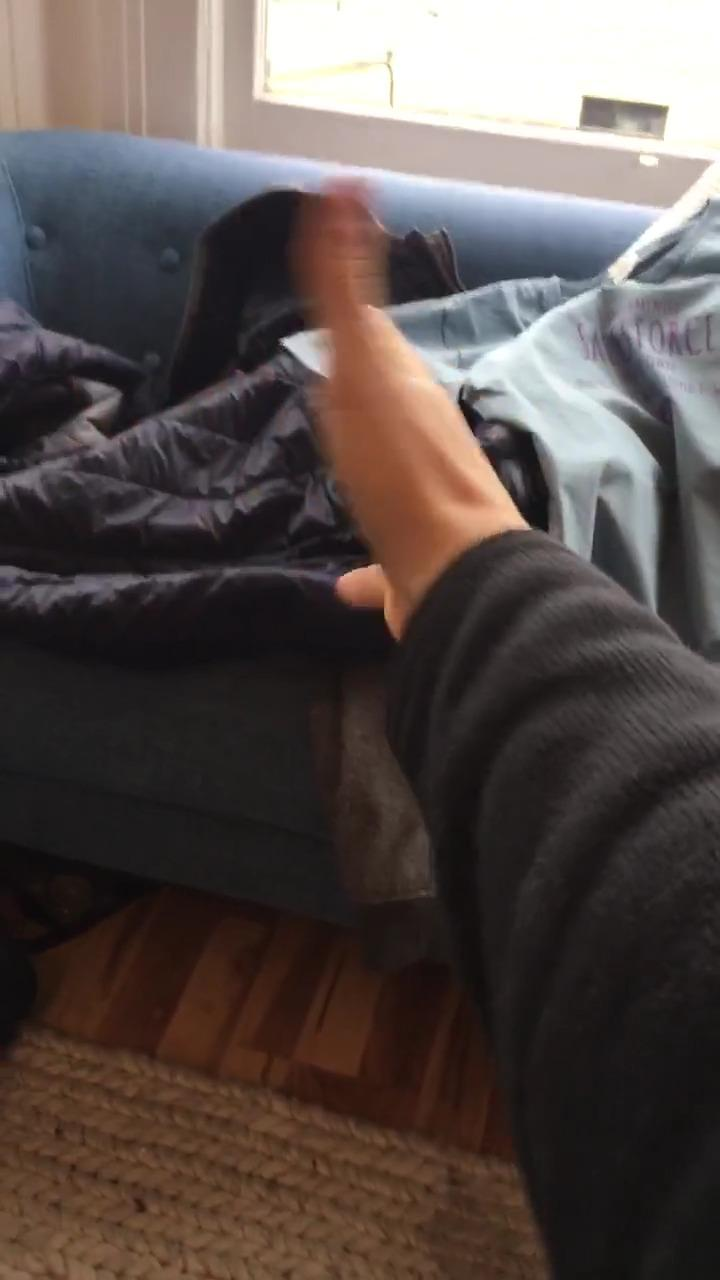Paper: (298, 178, 514, 638)
